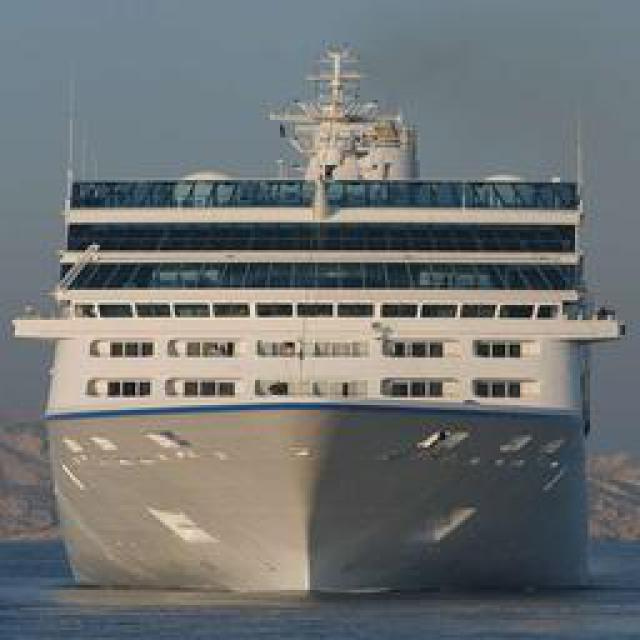Ship: (25, 133, 628, 601)
